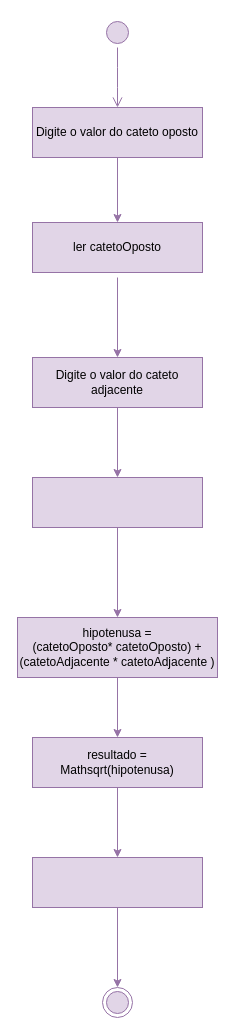
This 235x1035 diagram has some shape labels left out. Each missing label, with the centre of its shape:
"Exibir resultado" goes at (117,882).
"ler catetoAdjacente" goes at (117,502).
